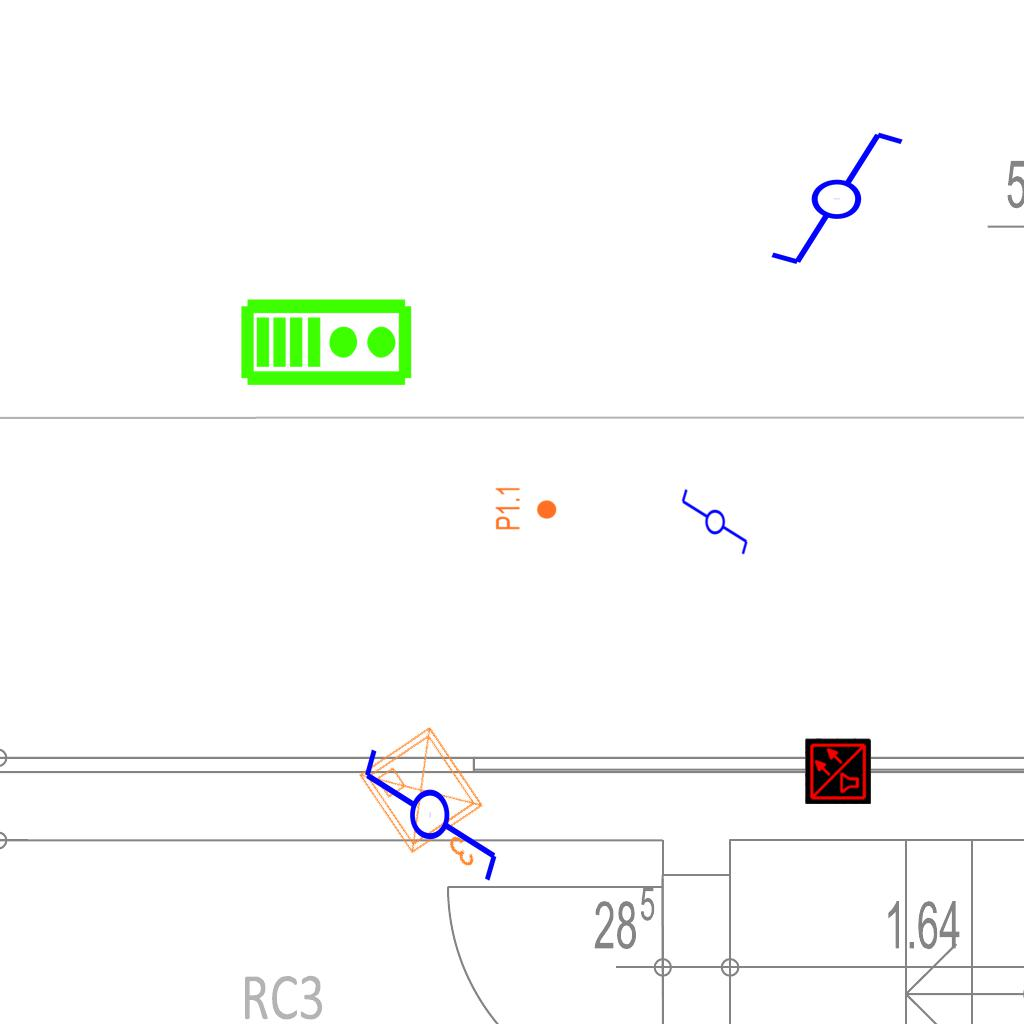Downlight_LED_Einbauleuchten_Flur: (494, 485, 558, 531)
Einbaudownlights_LED_Konferenzraeume: (348, 714, 520, 898)
Gegensprechanlage_mit_Video: (239, 293, 415, 388)
OKW_Multisensormelder_(Kombination_optischer_Rauch-Kahlenmonoxid_Waerme-Melder): (805, 738, 871, 804)
Wechselschalter: (750, 125, 907, 269), (360, 728, 504, 885), (678, 487, 750, 565)
